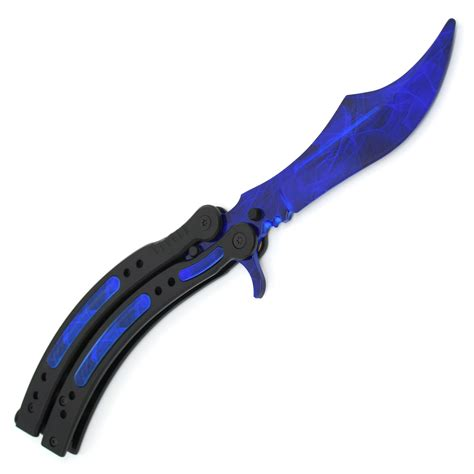knife: (13, 16, 464, 460)
